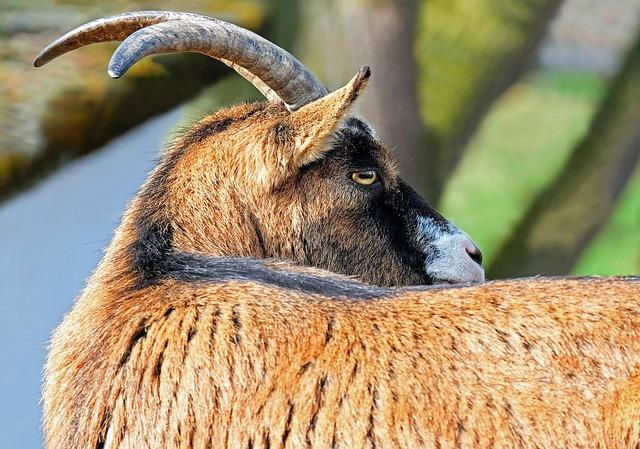Non_Gorille: (51, 0, 587, 449)
